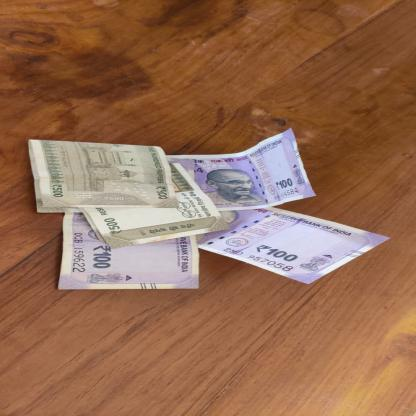New100Front: (199, 196, 393, 285), (166, 127, 319, 212), (58, 201, 202, 291)
New500Back: (77, 161, 231, 249), (28, 132, 180, 213)
